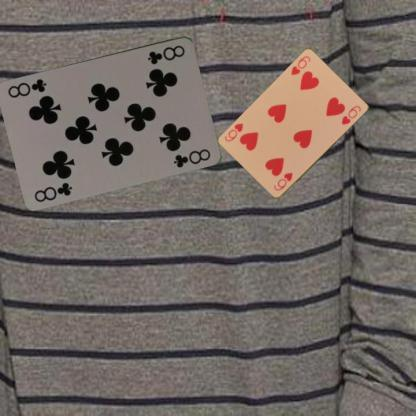6h: (288, 54, 312, 76), (271, 170, 294, 192)
8c: (32, 179, 74, 203), (145, 42, 187, 65)
